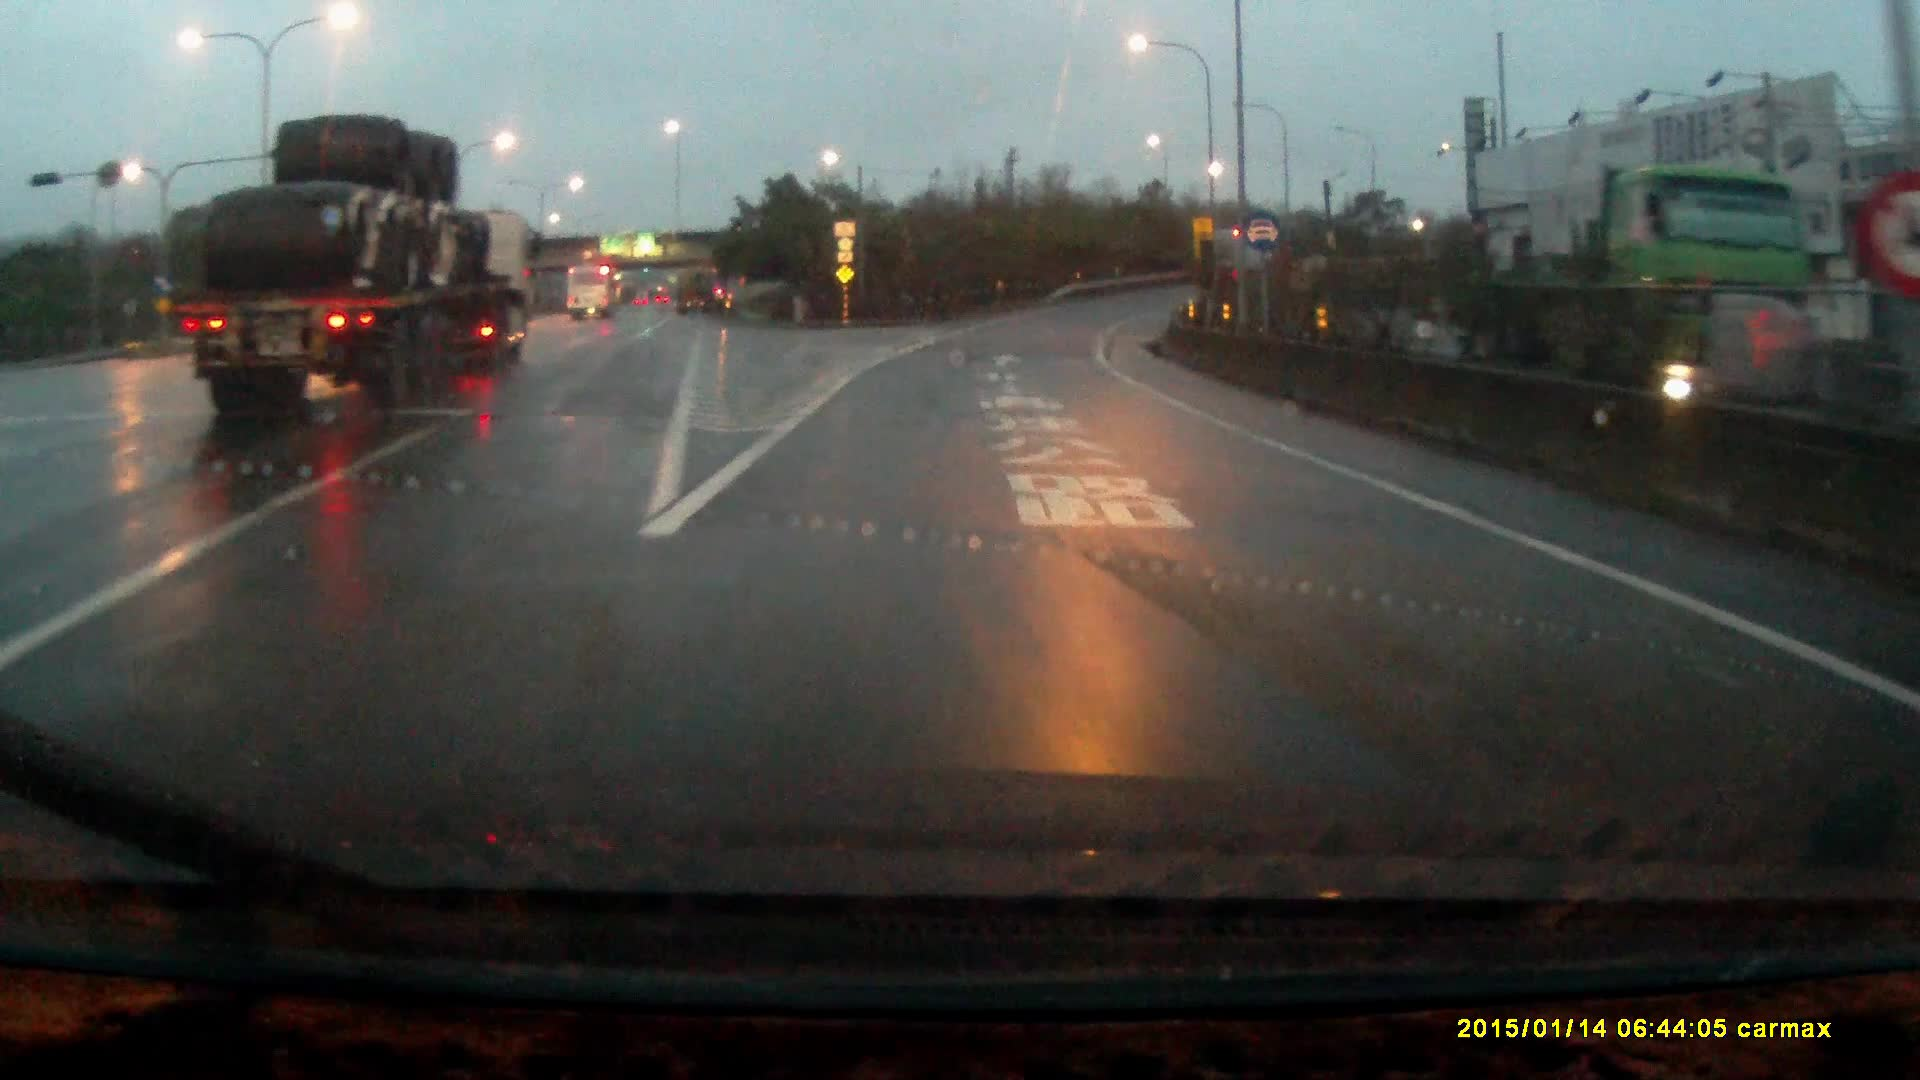vehicle: (167, 113, 542, 407), (564, 262, 617, 320)
